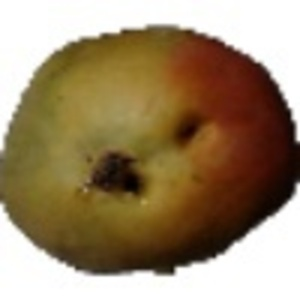mamão: (6, 19, 297, 275)
